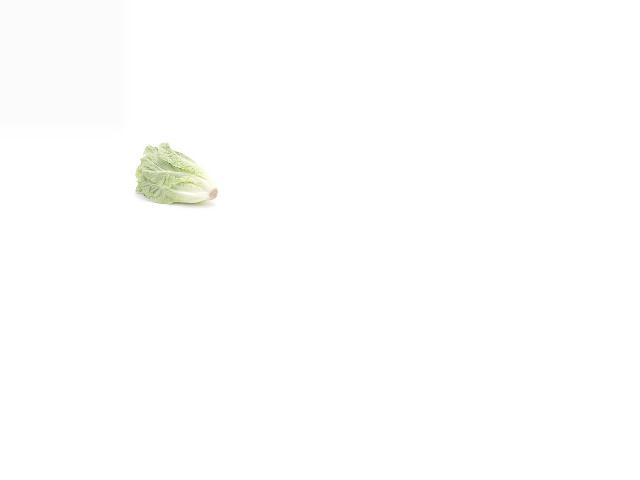lettuce: (135, 142, 221, 206)
